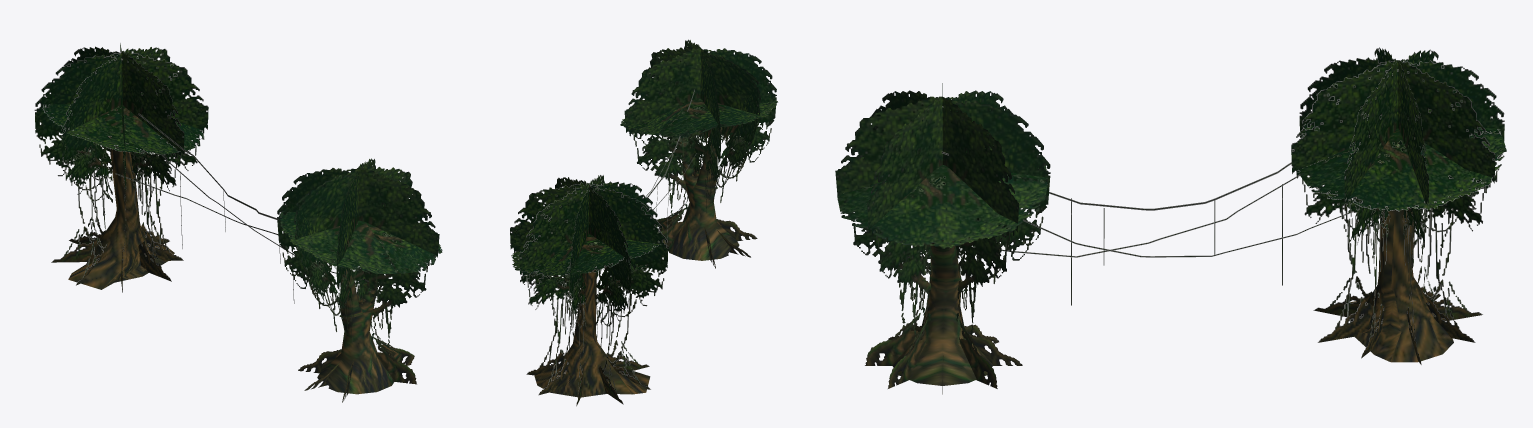
File: pine-1.obj
3 views of the same model, side by side, from view 1: azimuth 30°, elevation 25°; view 2: azimuth 150°, elevation 25°; view 3: azimuth 270°, elevation 25° (orthographic). The views are drawn at different scales.
Parts seen in each view (by area): view 1: jungle_tree3.001; view 2: jungle_tree3.001; view 3: jungle_tree3.001.
Part boxes in pixels (x1=…): jungle_tree3.001: x1=34, y1=43, x2=442, y2=402; jungle_tree3.001: x1=510, y1=39, x2=777, y2=406; jungle_tree3.001: x1=835, y1=47, x2=1506, y2=394.
Size of the model in its own units: 24.81 by 23.18 by 52.96.
Materials: 2 (2 with a texture image).
